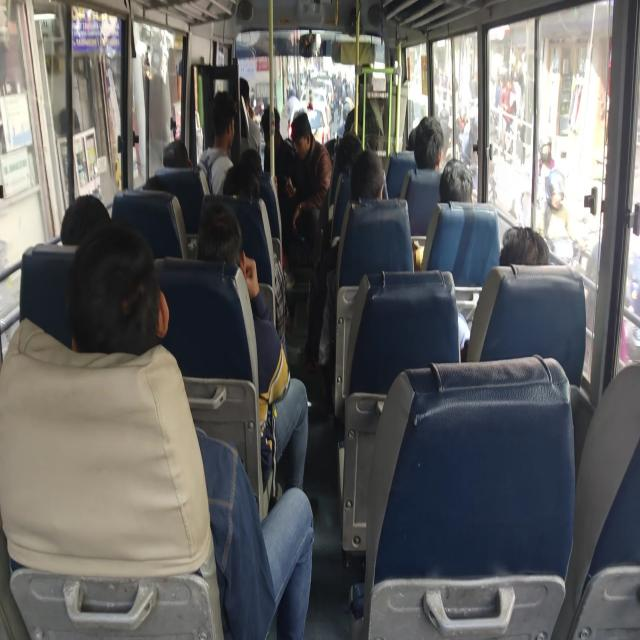person: (0, 216, 314, 638), (196, 196, 310, 500), (300, 150, 387, 372), (458, 224, 549, 358), (412, 158, 474, 270), (284, 111, 332, 250), (542, 168, 586, 262), (198, 90, 236, 196), (260, 105, 296, 198), (60, 193, 111, 246), (499, 224, 549, 266), (412, 115, 444, 171), (239, 76, 261, 154), (438, 158, 474, 204), (162, 139, 192, 168)
